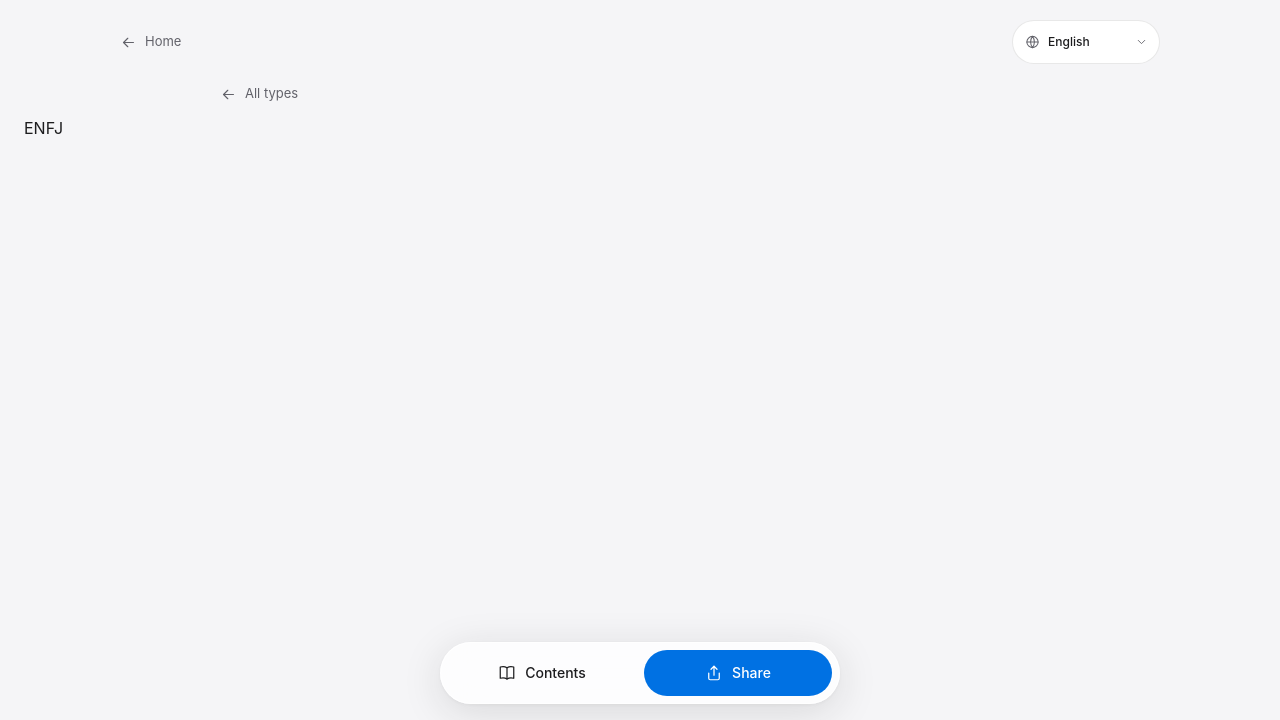
Test: offers a dock for a selected type and keeps search while reading an adjacent type
Expected: the navigation bar with class "report-dock" is shown, [440,642,840,704]
Click the button with class "dock-share" at (738, 673), box [644,650,832,696]
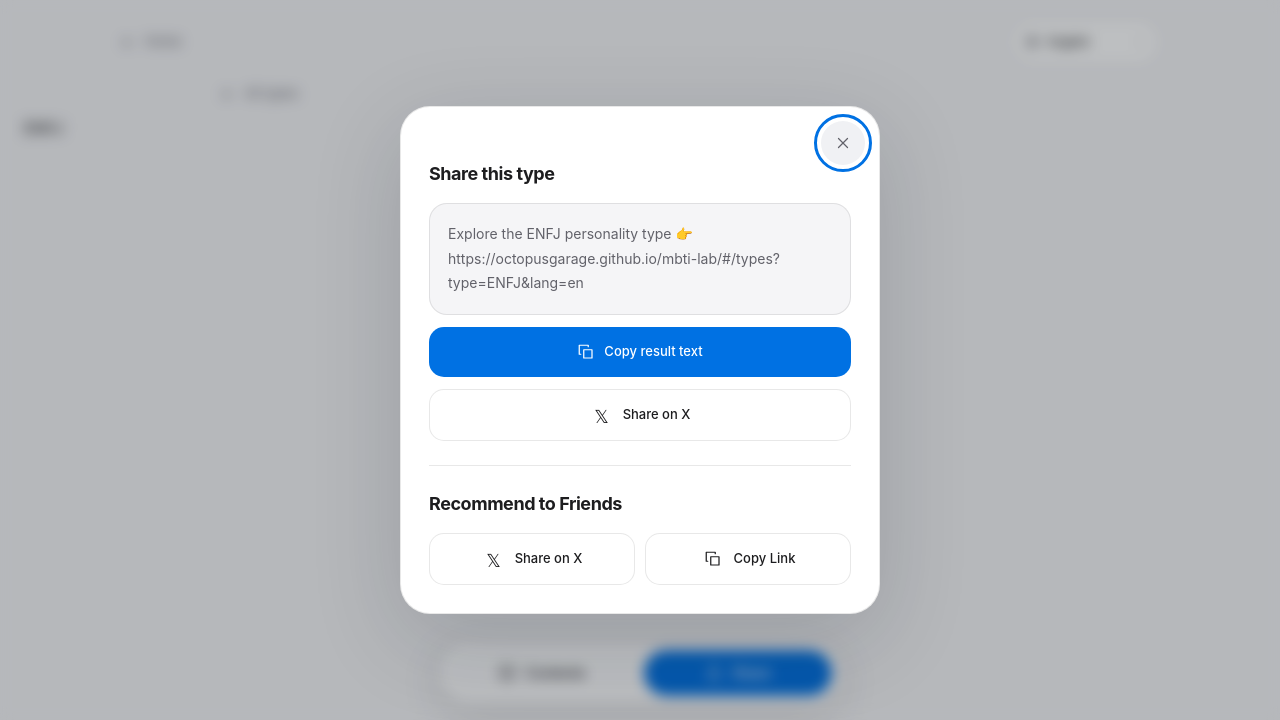
Expected: the text with class "share-text-preview" shows "ENFJ", [448,225,780,291]
